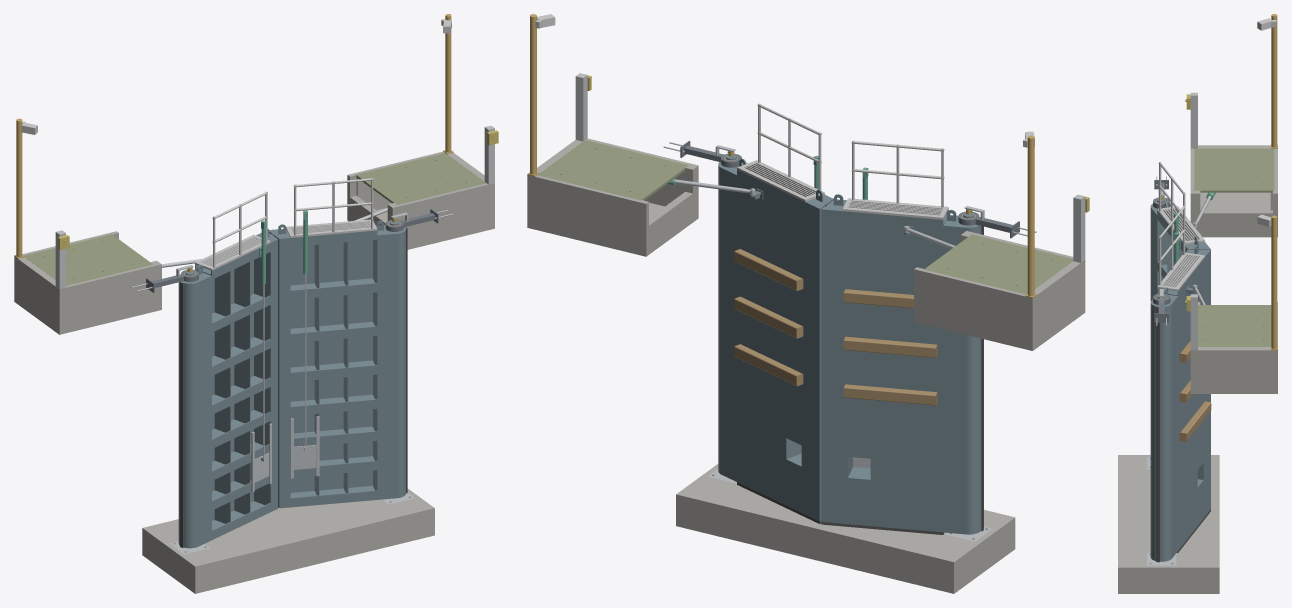
The model's file is esp2023_lock_gates.glb.
3 views of the same model, side by side, from view 1: azimuth 30°, elevation 25°; view 2: azimuth 150°, elevation 25°; view 3: azimuth 270°, elevation 25° (orthographic). The views are drawn at different scales.
Parts seen in each view (by area): view 1: cill, right skin plate, right heel post, left heel post, left inspection chamber, right inspection chamber, left mitre post, right mitre post, left stiffener 2, left stiffener 1, left skin plate, right cover panel 1 (+29 smaller); view 2: left skin plate, right skin plate, cill, right inspection chamber, left inspection chamber, left heel post, left mitre post, right heel post, right mitre post, right cover panel 1, right cover panel 2, right cover panel 3 (+17 smaller); view 3: cill, right heel post, right skin plate, left inspection chamber, right inspection chamber, left cover panel 1, left cover panel 2, left cover panel 3, left heel post, right mitre post, right cover panel 1, right cover panel 2 (+11 smaller).
Boxes of the visible parts, box(x1,y1,x2,y2) form: cill: box(142, 488, 434, 593); right skin plate: box(290, 240, 372, 492); right heel post: box(373, 220, 405, 499); left heel post: box(178, 269, 211, 548); left inspection chamber: box(14, 231, 161, 334); right inspection chamber: box(347, 151, 494, 249); left mitre post: box(254, 233, 277, 511); right mitre post: box(269, 229, 290, 508); left stiffener 2: box(234, 261, 250, 514); left stiffener 1: box(214, 271, 230, 523); left skin plate: box(195, 260, 253, 520); right cover panel 1: box(356, 167, 426, 204); left skin plate: box(842, 211, 943, 532); right skin plate: box(737, 169, 805, 514); cill: box(676, 464, 1015, 593); right inspection chamber: box(527, 138, 698, 256); left inspection chamber: box(914, 231, 1085, 350); left heel post: box(943, 212, 981, 534); left mitre post: box(821, 199, 846, 523); right heel post: box(718, 154, 743, 481); right mitre post: box(805, 195, 833, 521); right cover panel 1: box(607, 157, 688, 200); right cover panel 2: box(572, 148, 653, 191); right cover panel 3: box(537, 140, 619, 183); cill: box(1118, 455, 1219, 593); right heel post: box(1150, 293, 1177, 561); right skin plate: box(1177, 258, 1204, 550); left inspection chamber: box(1190, 145, 1277, 237); right inspection chamber: box(1190, 302, 1277, 393); left cover panel 1: box(1194, 176, 1274, 192); left cover panel 2: box(1194, 162, 1274, 176); left cover panel 3: box(1194, 148, 1274, 162); left heel post: box(1150, 198, 1170, 301); right mitre post: box(1186, 250, 1210, 516); right cover panel 1: box(1198, 305, 1271, 318); right cover panel 2: box(1198, 319, 1271, 332).
Size of the model in its own units: 10068 by 9600 by 3300.
